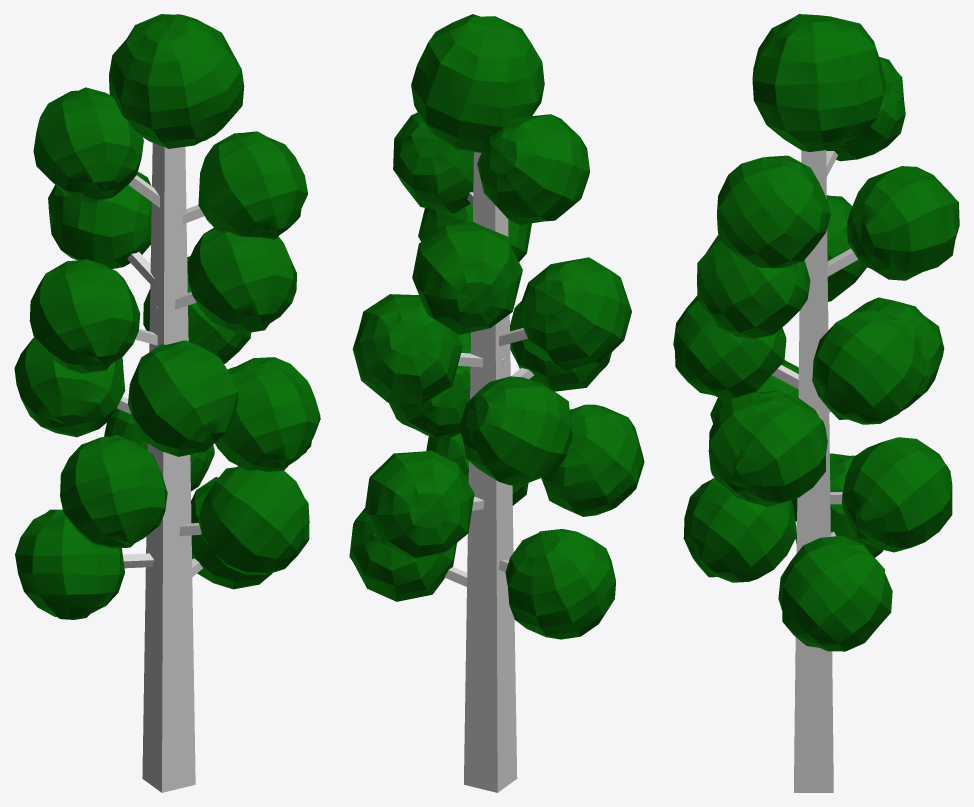
File: Tree_Birch_C_Abstract.fbx
3 views of the same model, side by side, from view 1: azimuth 30°, elevation 25°; view 2: azimuth 150°, elevation 25°; view 3: azimuth 270°, elevation 25° (orthographic).
Visible parts, largest first — view 1: Tree_Birch_C_Abstract; view 2: Tree_Birch_C_Abstract; view 3: Tree_Birch_C_Abstract.
Boxes of the visible parts, x1,y1,x2,y2 form: Tree_Birch_C_Abstract: (14, 14, 320, 792); Tree_Birch_C_Abstract: (349, 14, 644, 792); Tree_Birch_C_Abstract: (673, 14, 959, 792).
Bounding box in the file's own units: 611 × 1719 × 578.
